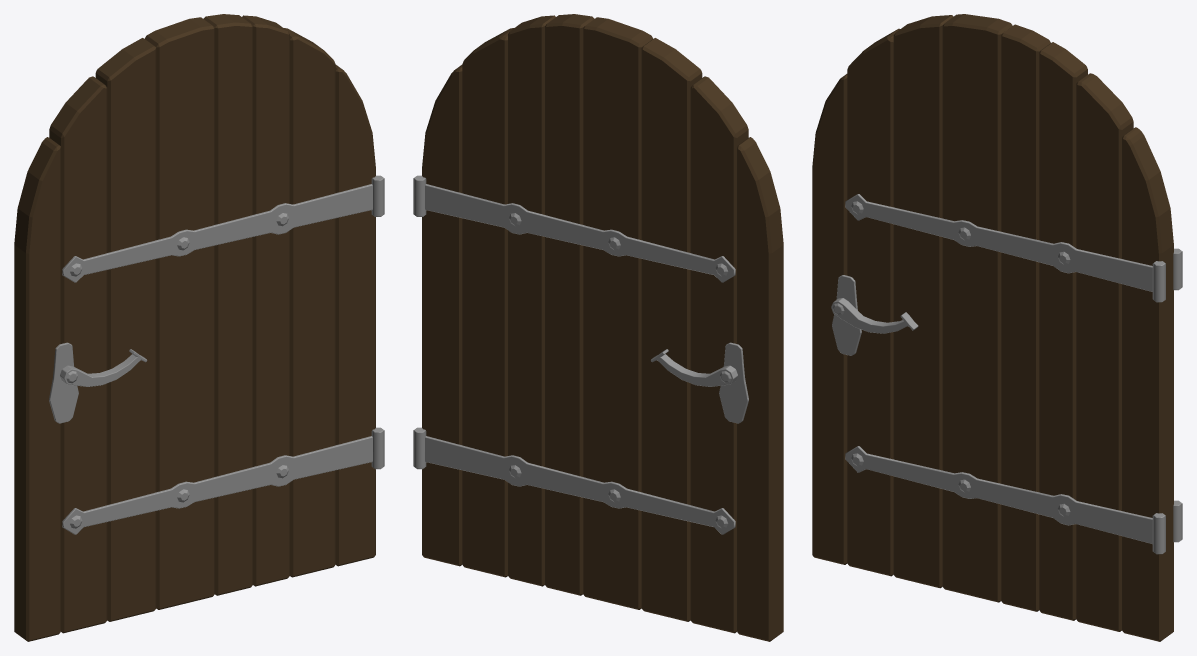
File: WoodenDoor.glb
3 views of the same model, side by side, from view 1: azimuth 30°, elevation 25°; view 2: azimuth 150°, elevation 25°; view 3: azimuth 330°, elevation 25° (orthographic).
Parts seen in each view (by area): view 1: DoorPiece.002-rigid, DoorPiece.003-rigid, DoorPiece.004-rigid, DoorPiece.005-rigid, DoorPiece.001-rigid, DoorPiece.007-rigid, DoorPiece.006-rigid, DoorPiece-rigid, Cube.006, Cube.007, Cube.004; view 2: DoorPiece.002-rigid, DoorPiece.003-rigid, DoorPiece.004-rigid, DoorPiece.005-rigid, DoorPiece.001-rigid, DoorPiece.007-rigid, DoorPiece.006-rigid, DoorPiece-rigid, Cube.006, Cube.007, Cube.004; view 3: DoorPiece.002-rigid, DoorPiece.003-rigid, DoorPiece.005-rigid, DoorPiece-rigid, DoorPiece.004-rigid, DoorPiece.007-rigid, DoorPiece.006-rigid, DoorPiece.001-rigid, Cube.006, Cube.007, Cube.004.
Part boxes in pixels (x1,y1,x2,y2): DoorPiece.002-rigid: (145, 17, 214, 609); DoorPiece.003-rigid: (95, 38, 156, 621); DoorPiece.004-rigid: (49, 76, 107, 633); DoorPiece.005-rigid: (284, 28, 335, 577); DoorPiece.001-rigid: (14, 137, 60, 641); DoorPiece.007-rigid: (203, 14, 252, 595); DoorPiece.006-rigid: (242, 15, 289, 586); DoorPiece-rigid: (335, 65, 375, 566); Cube.006: (62, 427, 384, 534); Cube.007: (62, 175, 384, 282); Cube.004: (49, 342, 147, 423); DoorPiece.002-rigid: (583, 17, 652, 609); DoorPiece.003-rigid: (641, 38, 702, 621); DoorPiece.004-rigid: (690, 76, 748, 633); DoorPiece.005-rigid: (462, 28, 513, 577); DoorPiece.001-rigid: (737, 137, 783, 641); DoorPiece.007-rigid: (545, 14, 594, 595); DoorPiece.006-rigid: (508, 15, 555, 586); DoorPiece-rigid: (422, 65, 462, 566); Cube.006: (413, 427, 735, 534); Cube.007: (413, 175, 735, 282); Cube.004: (650, 342, 748, 423); DoorPiece.002-rigid: (942, 14, 1012, 602); DoorPiece.003-rigid: (893, 15, 953, 588); DoorPiece.005-rigid: (1076, 73, 1133, 631); DoorPiece-rigid: (1122, 127, 1173, 641); DoorPiece.004-rigid: (847, 28, 899, 576); DoorPiece.007-rigid: (1001, 24, 1050, 611); DoorPiece.006-rigid: (1039, 42, 1087, 620); DoorPiece.001-rigid: (812, 74, 847, 564); Cube.006: (845, 446, 1182, 554); Cube.007: (845, 194, 1182, 302); Cube.004: (831, 275, 918, 355).
Size of what is drawn, in the model's own units: 1.59 by 2.45 by 0.2591.
